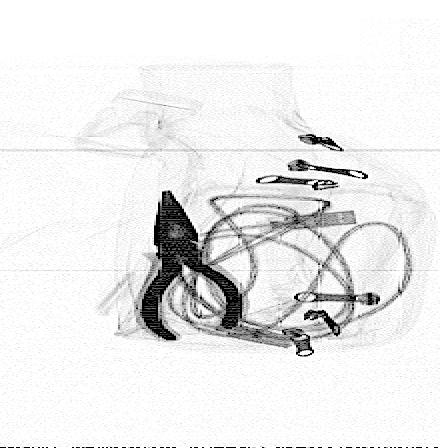Pliers: (134, 189, 249, 342)
